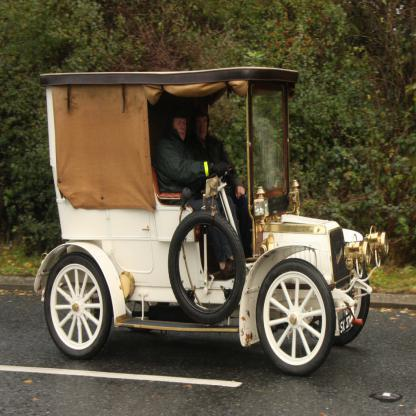car: (34, 61, 392, 376)
